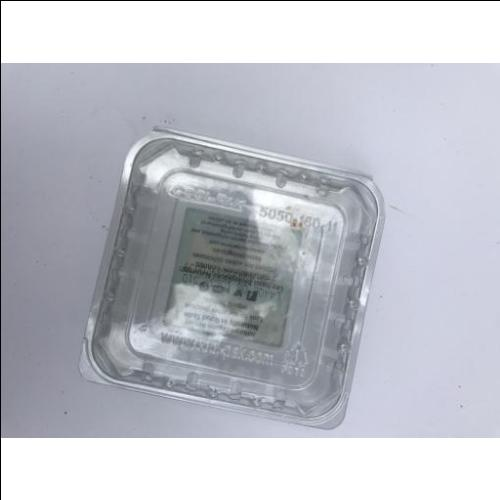plastic: (96, 130, 360, 426)
